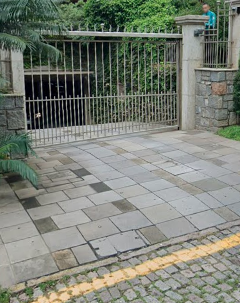vag32: (55, 173, 239, 287)
